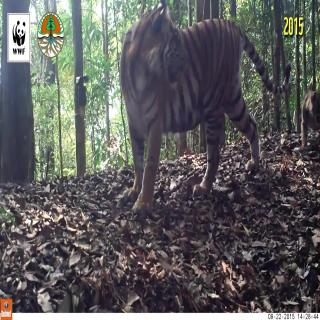Tiger: (117, 0, 293, 221)
